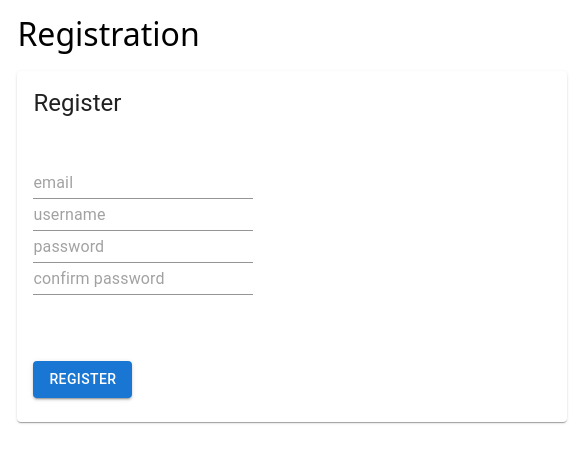
it: displays the correct information from the backend post
Type "foo@gmail.com" into the field with placeholder "email" at (143, 183), box [33, 167, 253, 199]
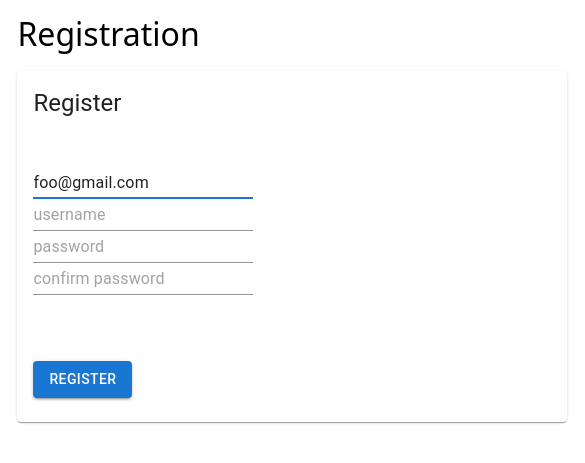
Type "b" into the field with placeholder "username" at (143, 215), box [33, 199, 253, 231]
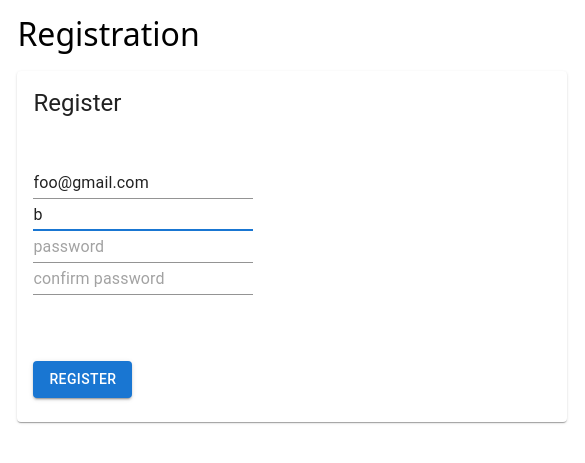
Type "a" into the password field with placeholder "password" at (143, 247), box [33, 231, 253, 263]
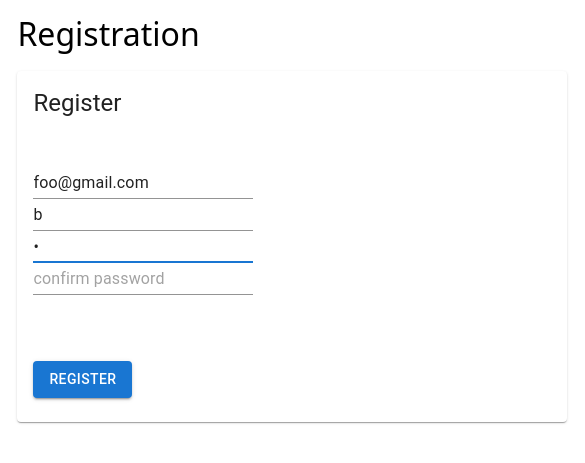
Type "a" into the password field with placeholder "confirm password" at (143, 279), box [33, 263, 253, 295]
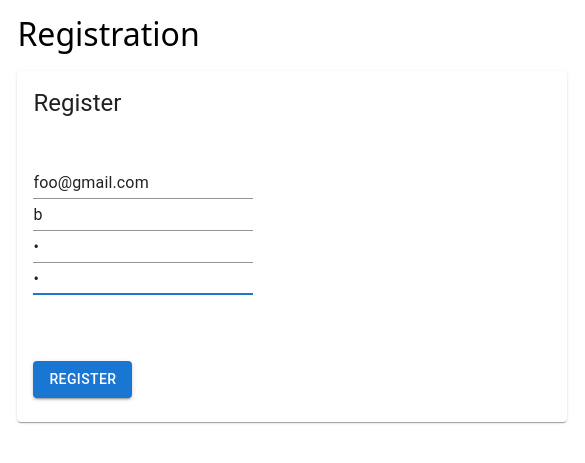
Click the button "register" at (83, 379), box [33, 361, 132, 398]
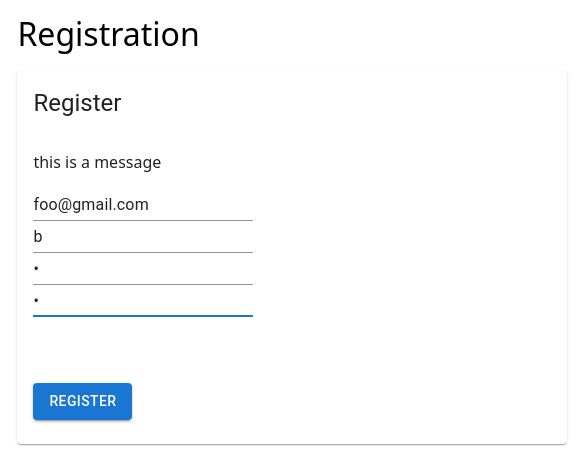
Result: the text with test id "backend-register-post" reads "this is a message" at [33, 151, 161, 173]
